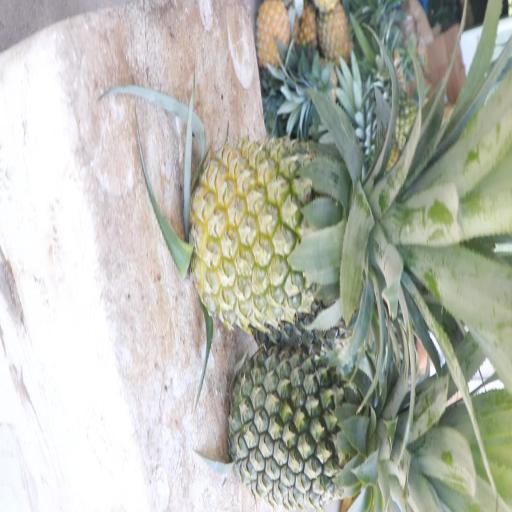Pineapple - v8 v1: (190, 132, 390, 325), (251, 0, 292, 76), (315, 0, 355, 68)
